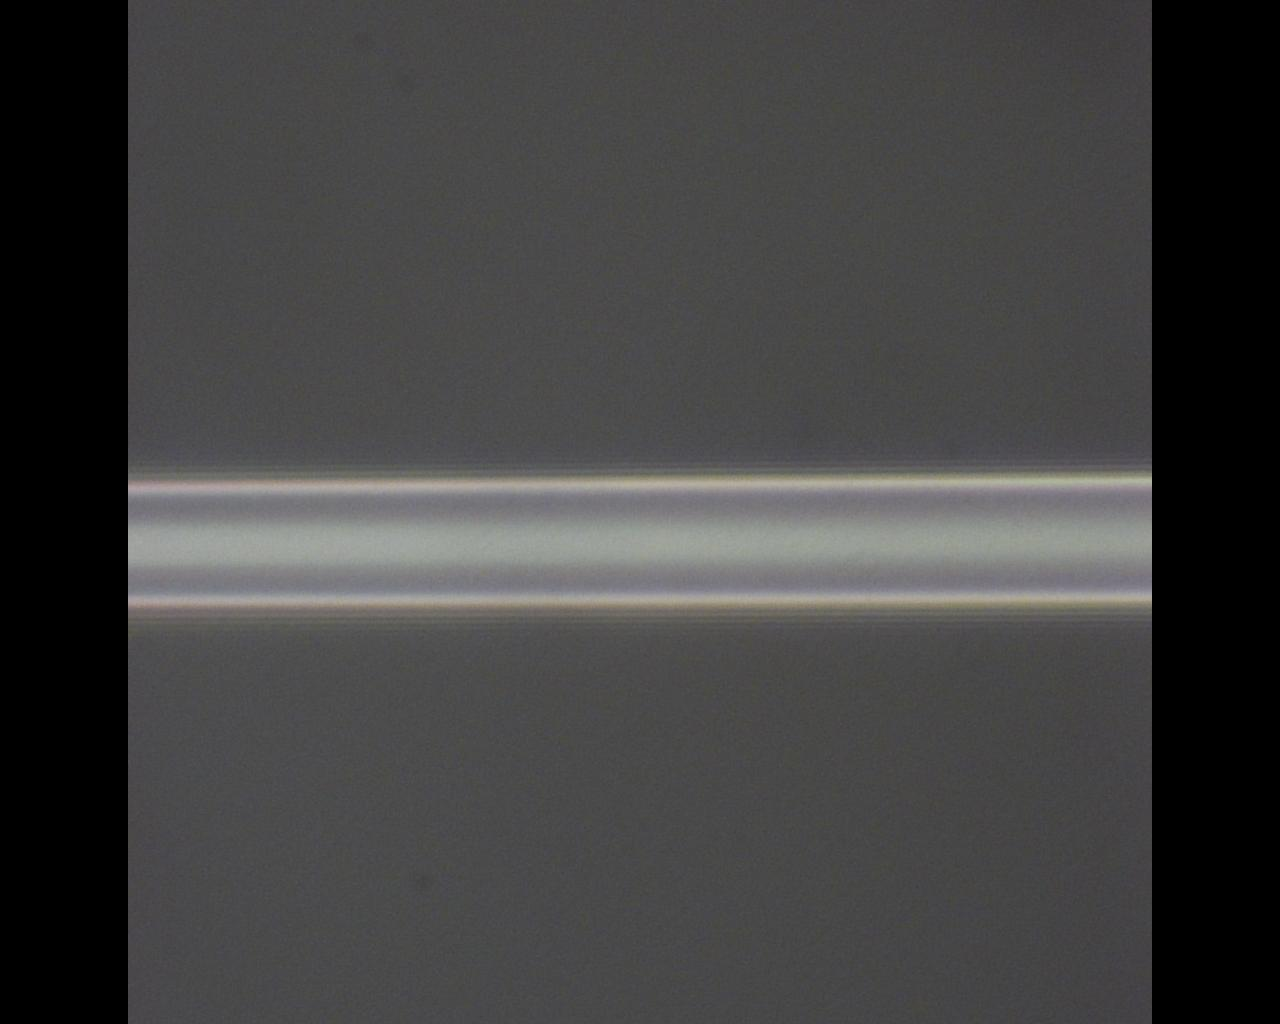fiber: (128, 472, 1152, 612)
